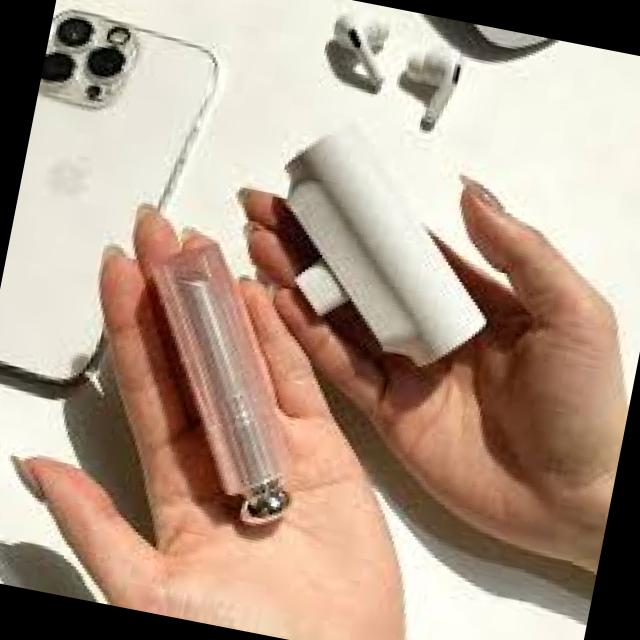power_bank: (256, 117, 520, 386)
